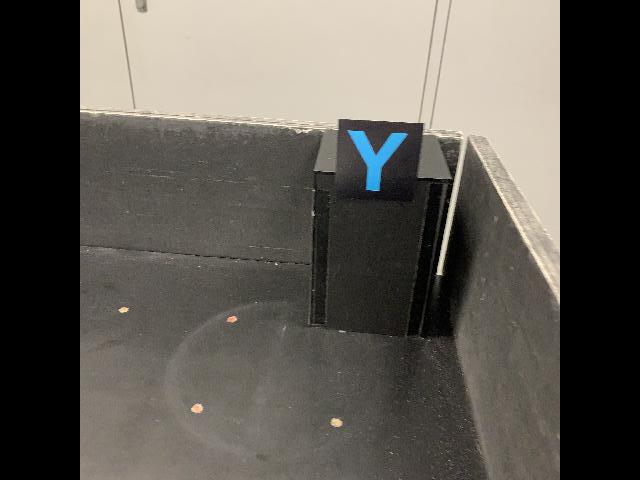alphabet_y: (333, 117, 425, 205)
